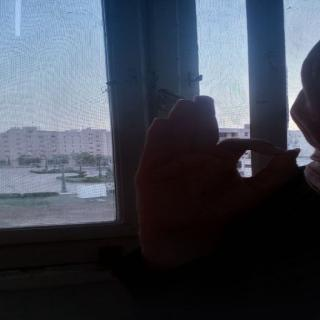Space: (109, 94, 302, 238)
